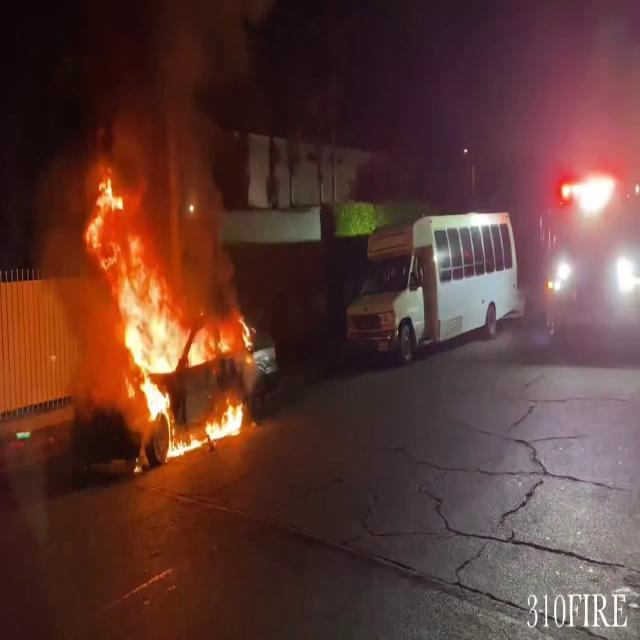Fire: (82, 164, 255, 463)
